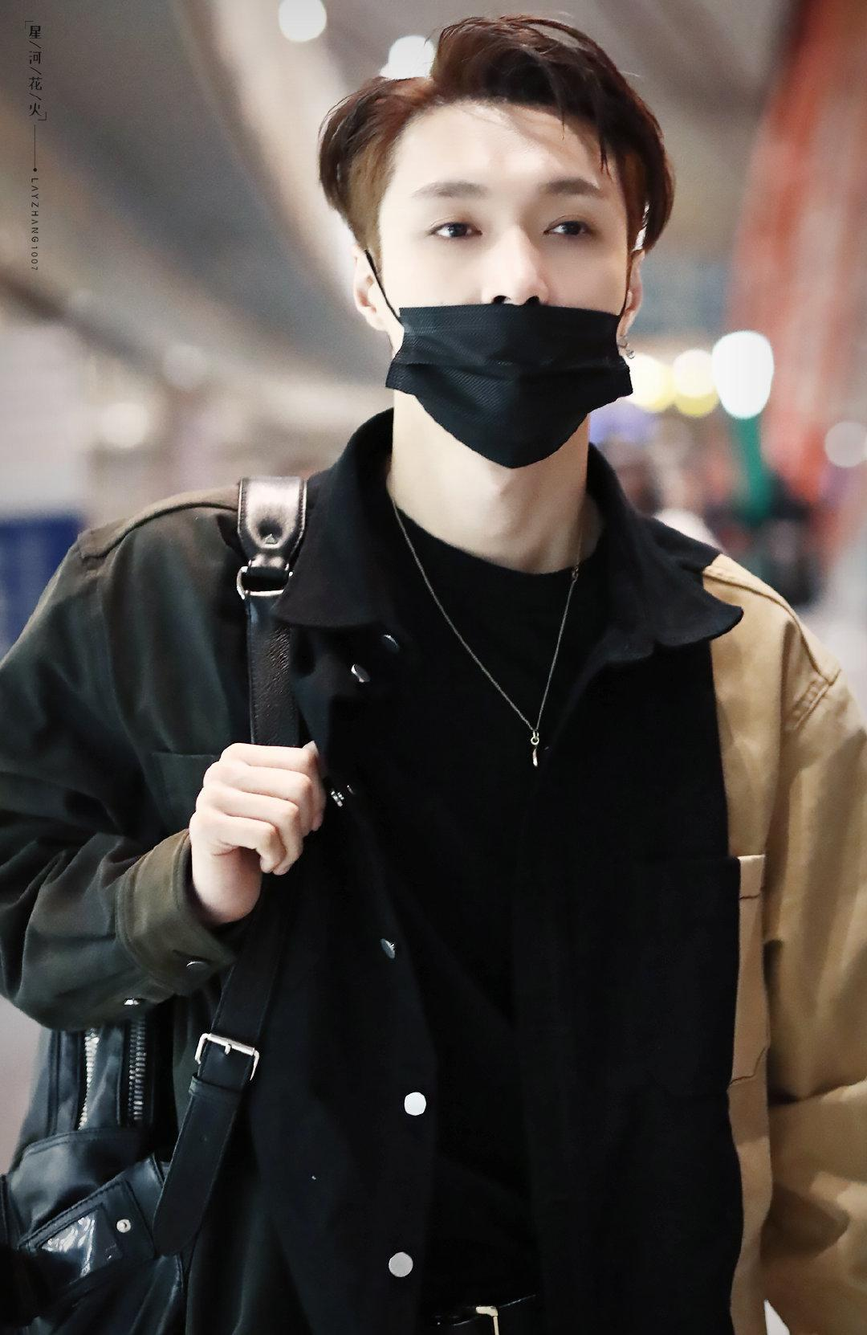WRONG: (378, 147, 630, 453)
